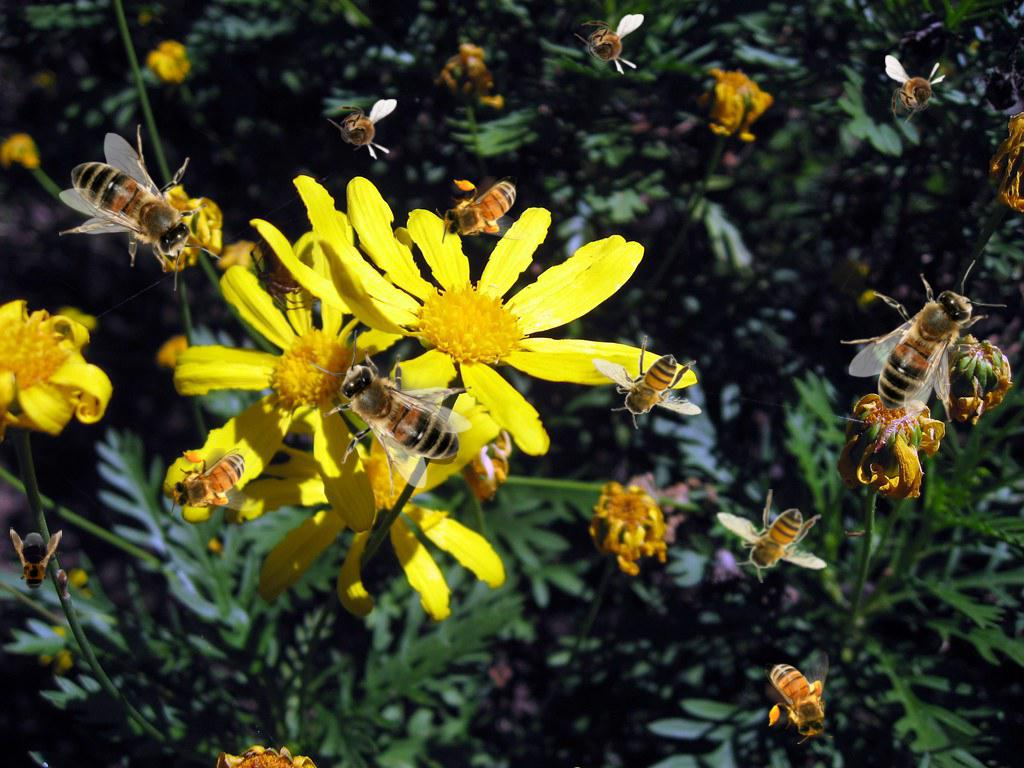Bee: (310, 330, 472, 497), (59, 124, 221, 291), (840, 260, 1007, 422), (591, 335, 702, 429), (716, 489, 827, 583), (436, 176, 529, 244), (165, 448, 258, 516), (765, 651, 833, 744), (885, 55, 946, 125), (327, 99, 397, 160), (574, 14, 644, 75), (10, 527, 62, 595)
